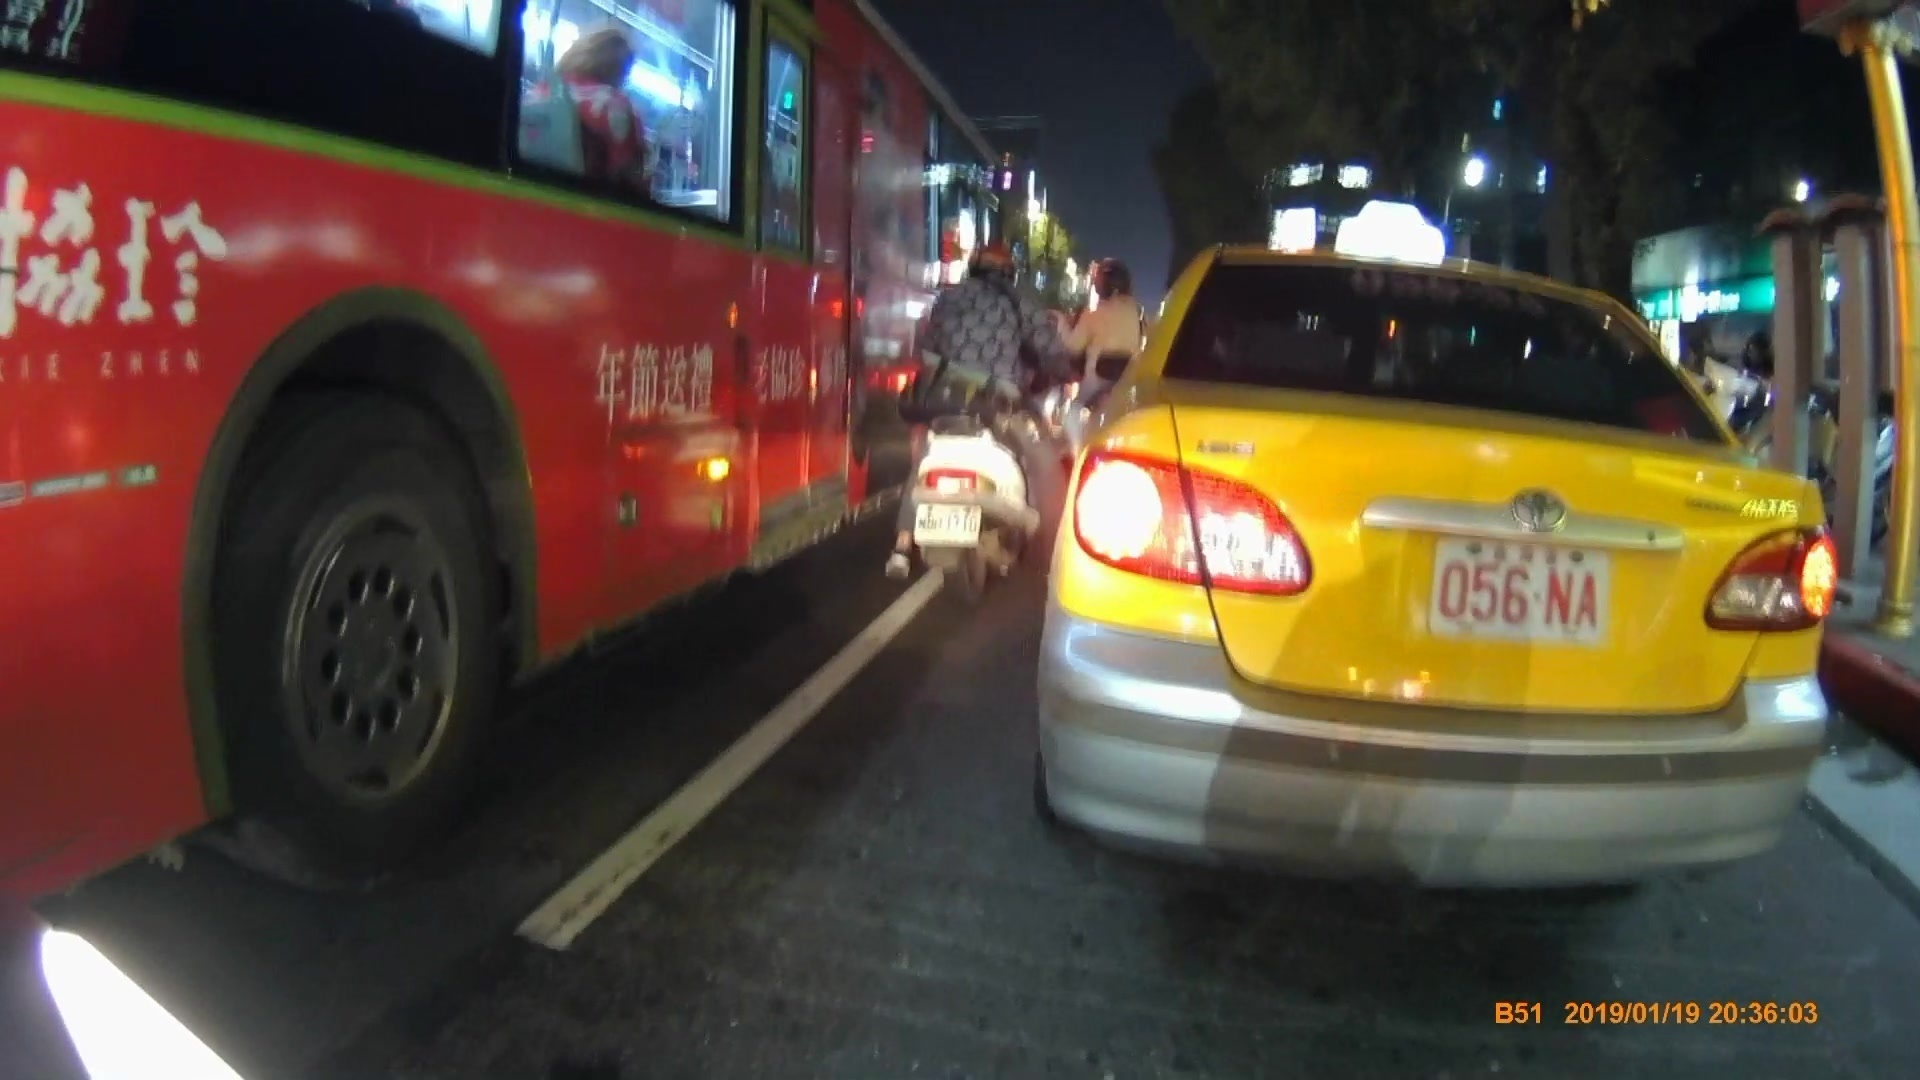License_plate: (1432, 537, 1615, 648), (913, 502, 983, 548)
